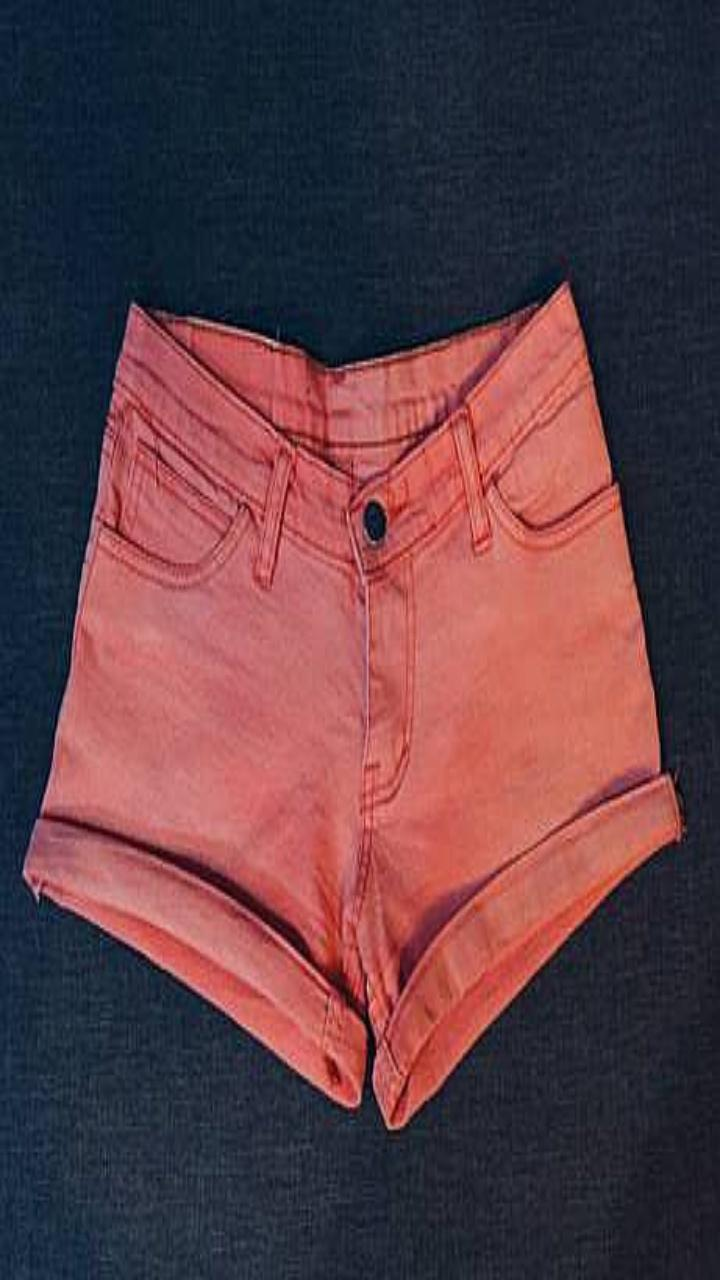Shorts: (23, 279, 684, 1128)
